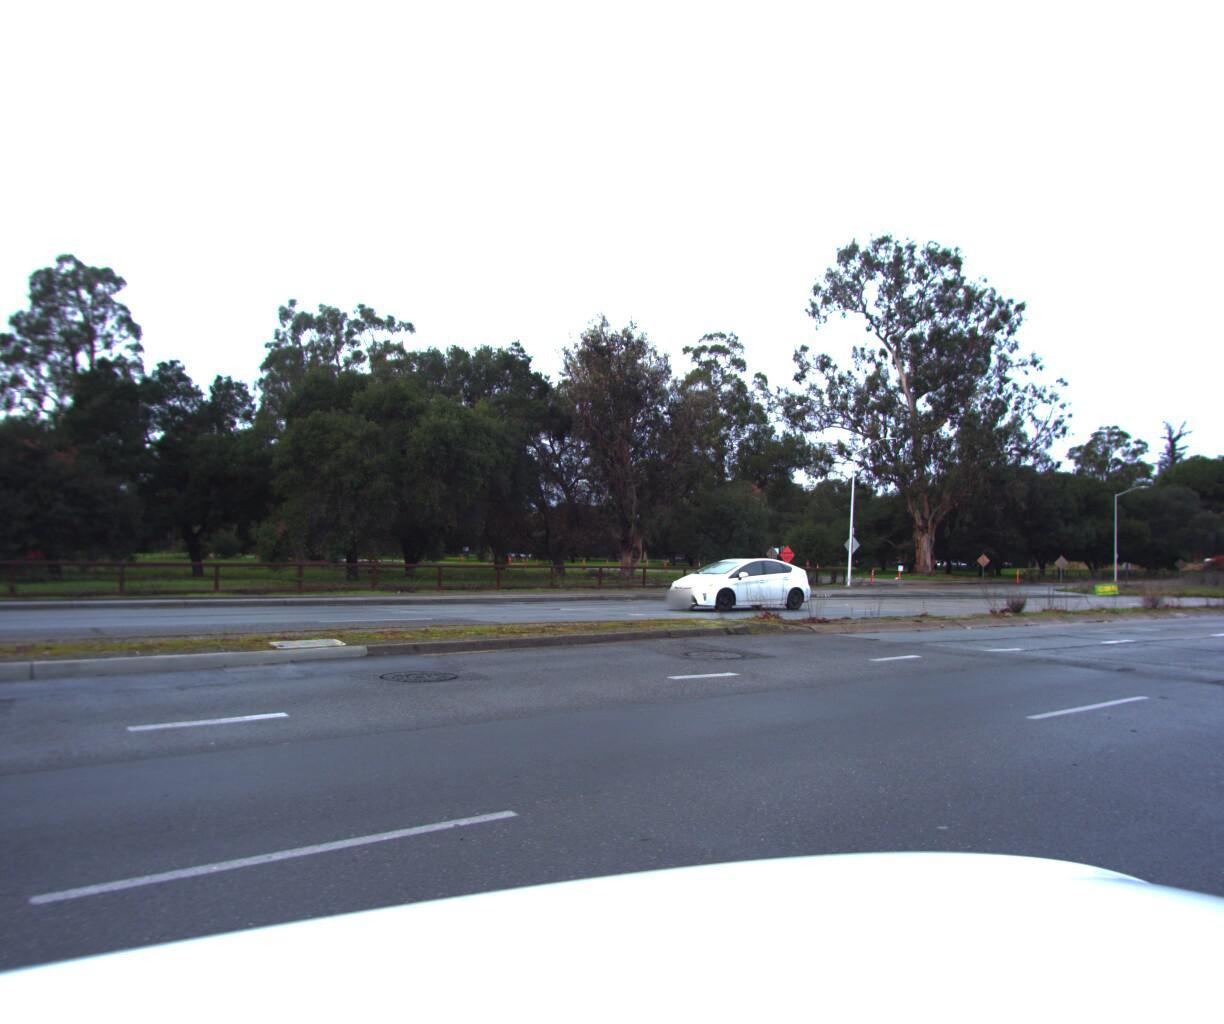car: (654, 557, 817, 619)
